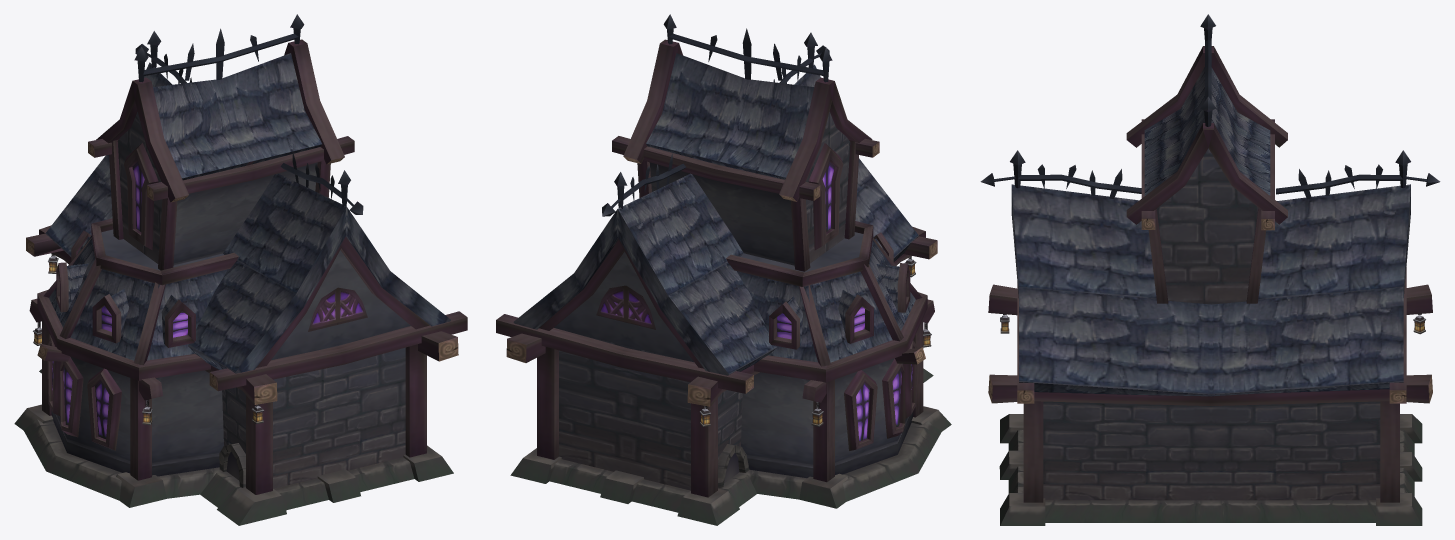
Rendered from hacz_fangwu_02.FBX.
3 views of the same model, side by side, from view 1: azimuth 30°, elevation 25°; view 2: azimuth 150°, elevation 25°; view 3: azimuth 270°, elevation 25° (orthographic).
Visible parts, largest first — view 1: hacz_fangwu_02; view 2: hacz_fangwu_02; view 3: hacz_fangwu_02.
Boxes of the visible parts, left/top/right/bottom form: hacz_fangwu_02: left=14, top=14, right=467, bottom=525; hacz_fangwu_02: left=496, top=14, right=951, bottom=525; hacz_fangwu_02: left=980, top=14, right=1440, bottom=525.
Size of the model in its own units: 1323 by 1542 by 1576.
